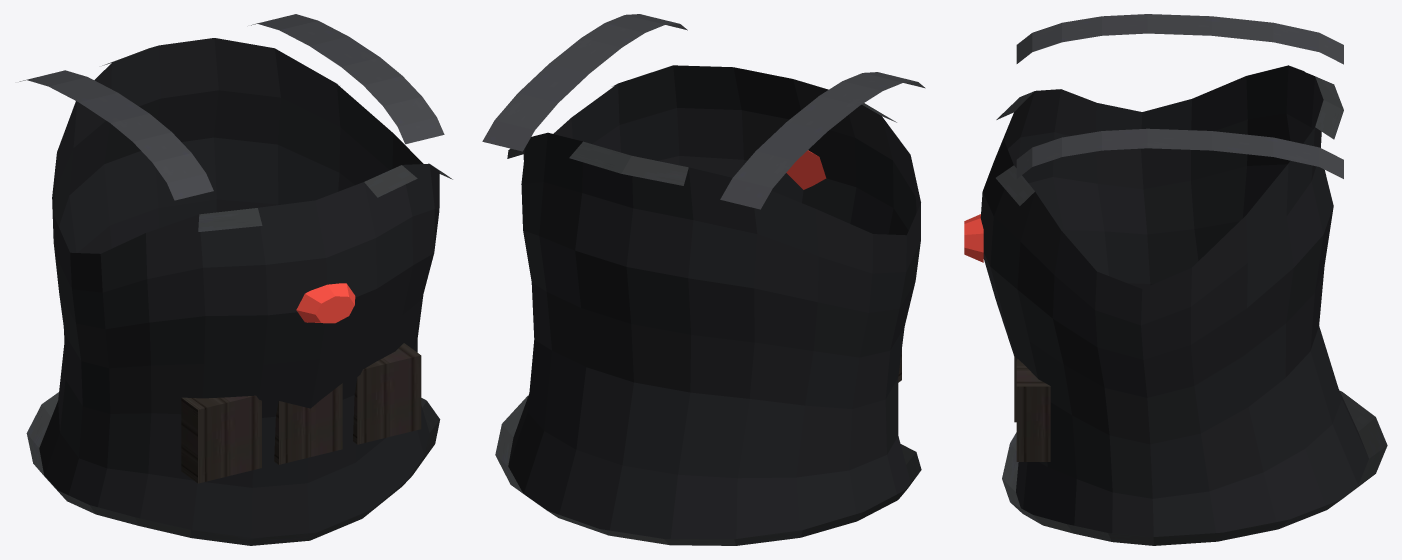
Rendered from eq_present_3_chest.glb.
3 renders of one model, left to right at view 1: azimuth 30°, elevation 25°; view 2: azimuth 150°, elevation 25°; view 3: azimuth 270°, elevation 25°, orthographic. The views are drawn at different scales.
Visible parts, largest first — view 1: eq_present_3_chest; view 2: eq_present_3_chest; view 3: eq_present_3_chest.
Part boxes in pixels (x1=…): eq_present_3_chest: x1=19, y1=14, x2=452, y2=545; eq_present_3_chest: x1=482, y1=14, x2=925, y2=545; eq_present_3_chest: x1=964, y1=14, x2=1387, y2=545.
Bounding box in the file's own units: 0.4602 × 0.4658 × 0.4348.
5 materials, 3 textured.
